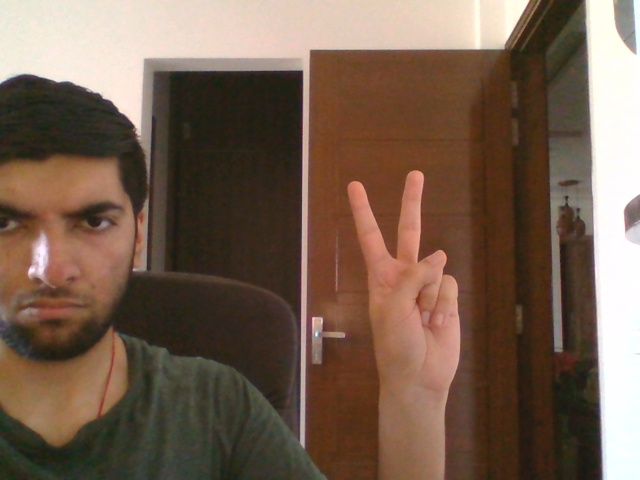LetterK: (347, 170, 462, 398)
